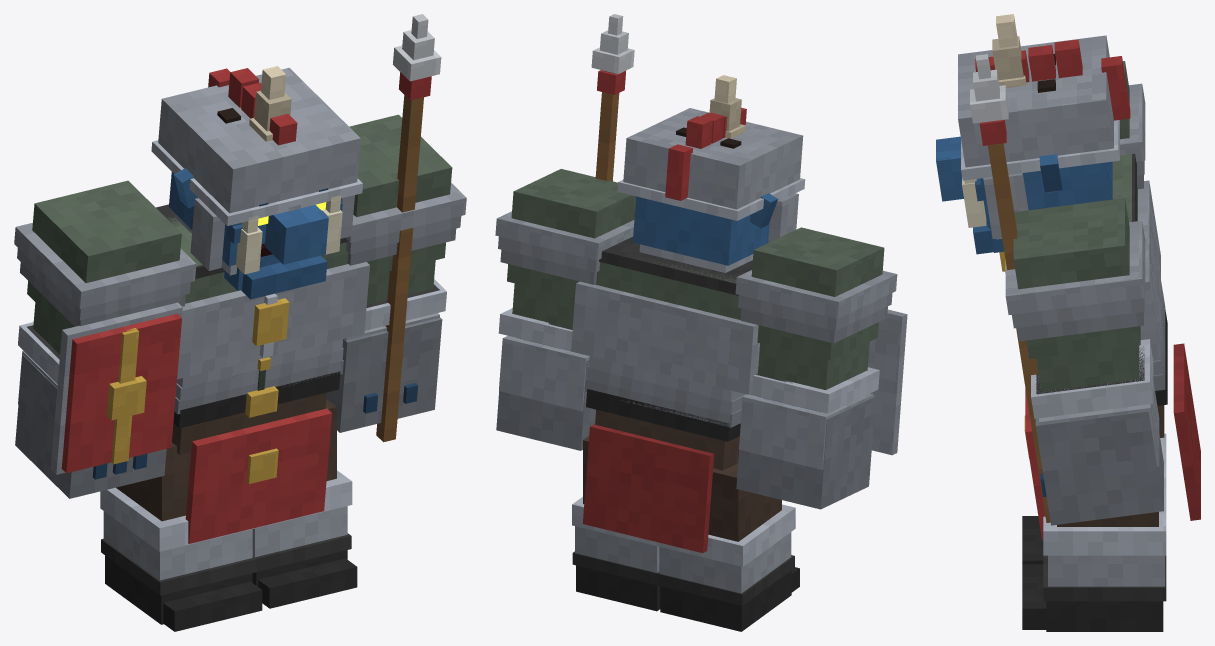
The model's file is ogre_garde.glb.
The picture shows the model from 3 angles, left to right: view 1: azimuth 30°, elevation 25°; view 2: azimuth 150°, elevation 25°; view 3: azimuth 270°, elevation 25°; orthographic projection. The views are drawn at different scales.
Parts seen in each view (by area): view 1: ArmR, Torso, Head, ArmL, LegR, LegL, HandL; view 2: Torso, ArmR, ArmL, Head, LegR, LegL, HandL; view 3: ArmL, Head, LegL, Torso, HandL, ArmR, LegR.
Part boxes in pixels (x1,y1,x2,y2): ArmR: [14, 180, 196, 498]; Torso: [156, 204, 369, 543]; Head: [151, 66, 362, 299]; ArmL: [326, 114, 466, 432]; LegR: [100, 443, 262, 631]; LegL: [252, 399, 357, 608]; HandL: [376, 14, 441, 442]; Torso: [571, 236, 764, 553]; ArmR: [735, 227, 907, 509]; ArmL: [495, 169, 635, 450]; Head: [617, 75, 805, 272]; LegR: [656, 463, 799, 631]; LegL: [572, 436, 660, 611]; HandL: [591, 14, 634, 181]; ArmL: [1005, 198, 1163, 525]; Head: [936, 14, 1130, 254]; LegL: [1022, 483, 1166, 631]; Torso: [1005, 154, 1200, 539]; HandL: [970, 54, 1050, 522]; ArmR: [999, 61, 1145, 271]; LegR: [1022, 433, 1166, 564].
Size of the model in its own units: 1.59 by 2.19 by 0.883.
Materials: 42 (42 with a texture image).
